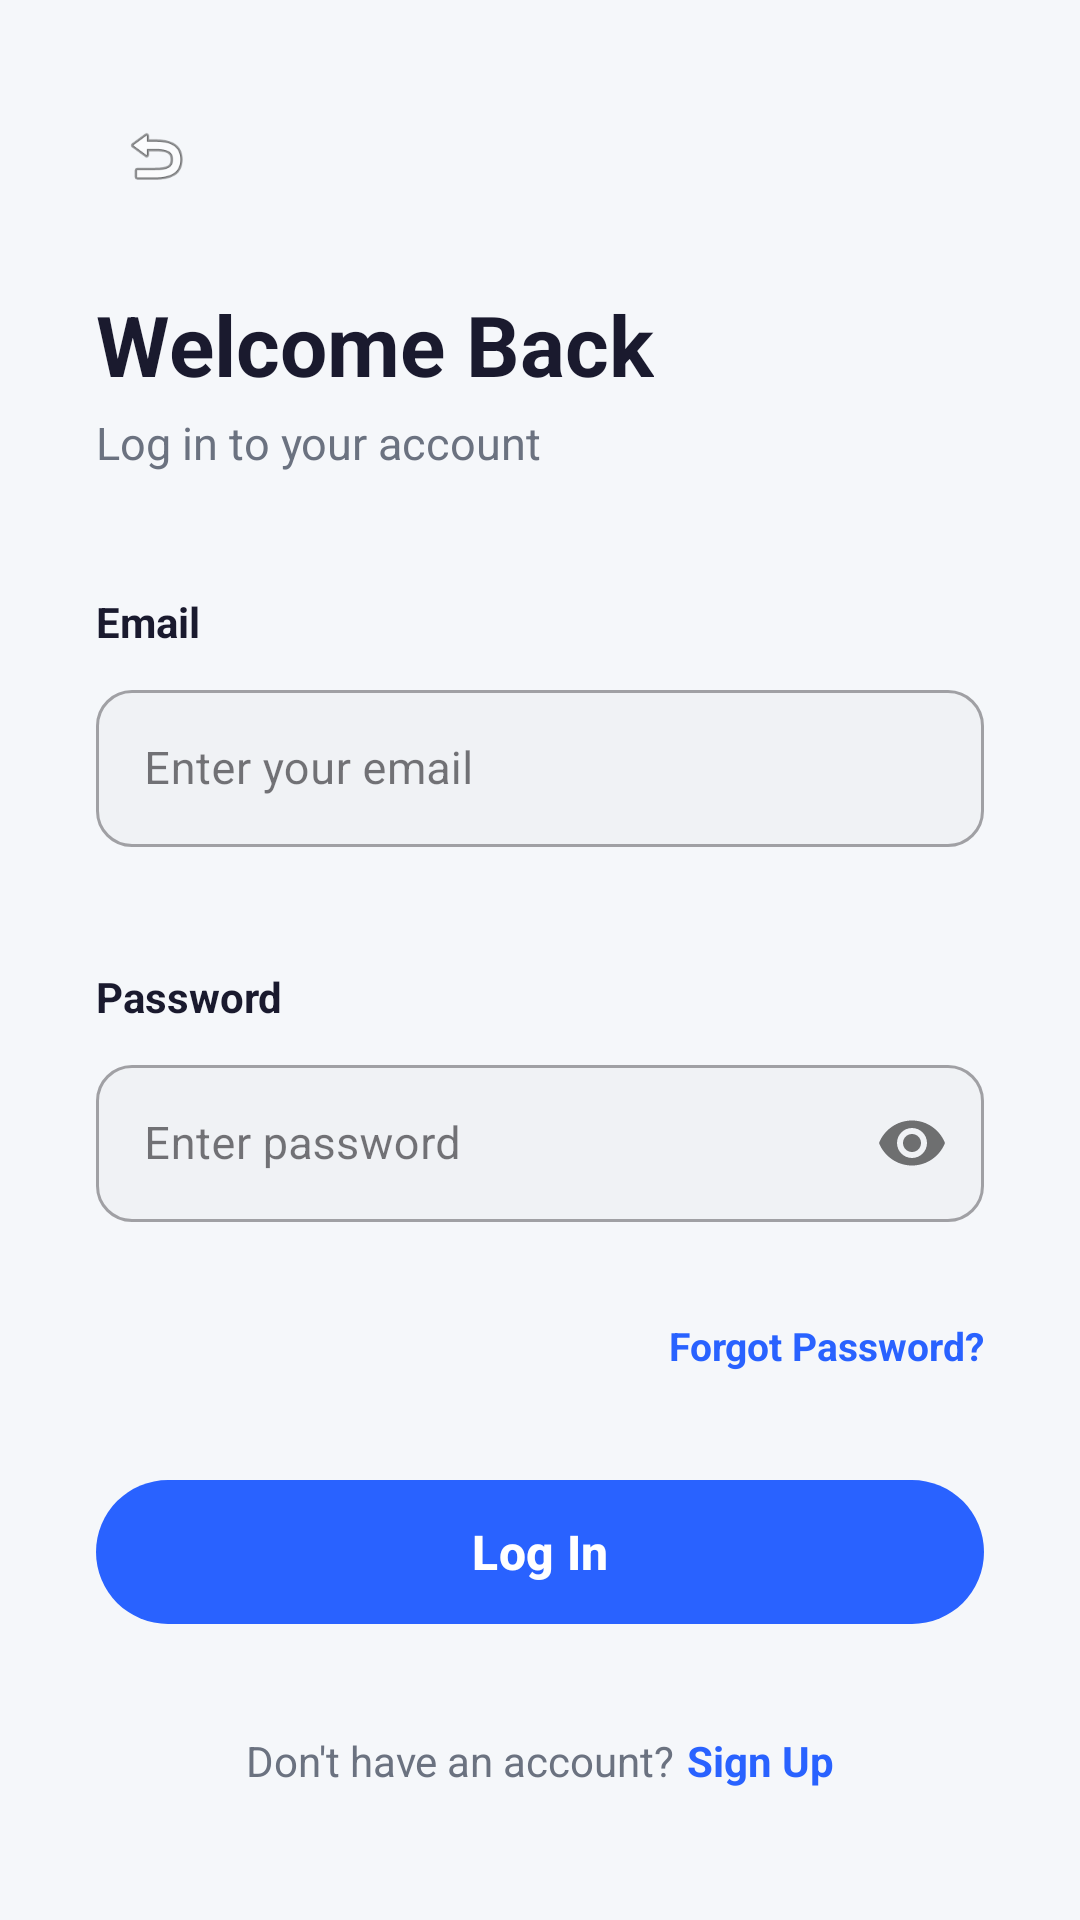

Icons on this 1080px×1920px Android screen, each with its box as {"left": x1, "top": y1, "right": x2, "bottom": y2}:
Go back: {"left": 131, "top": 133, "right": 183, "bottom": 180}
